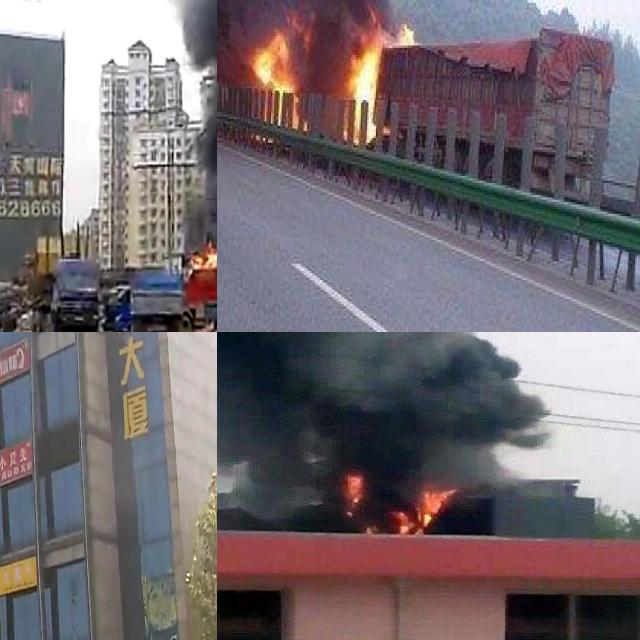fire: (251, 12, 303, 124), (343, 26, 382, 140), (374, 481, 454, 534), (188, 222, 217, 271), (341, 470, 367, 520)
smoke: (217, 332, 503, 472)
